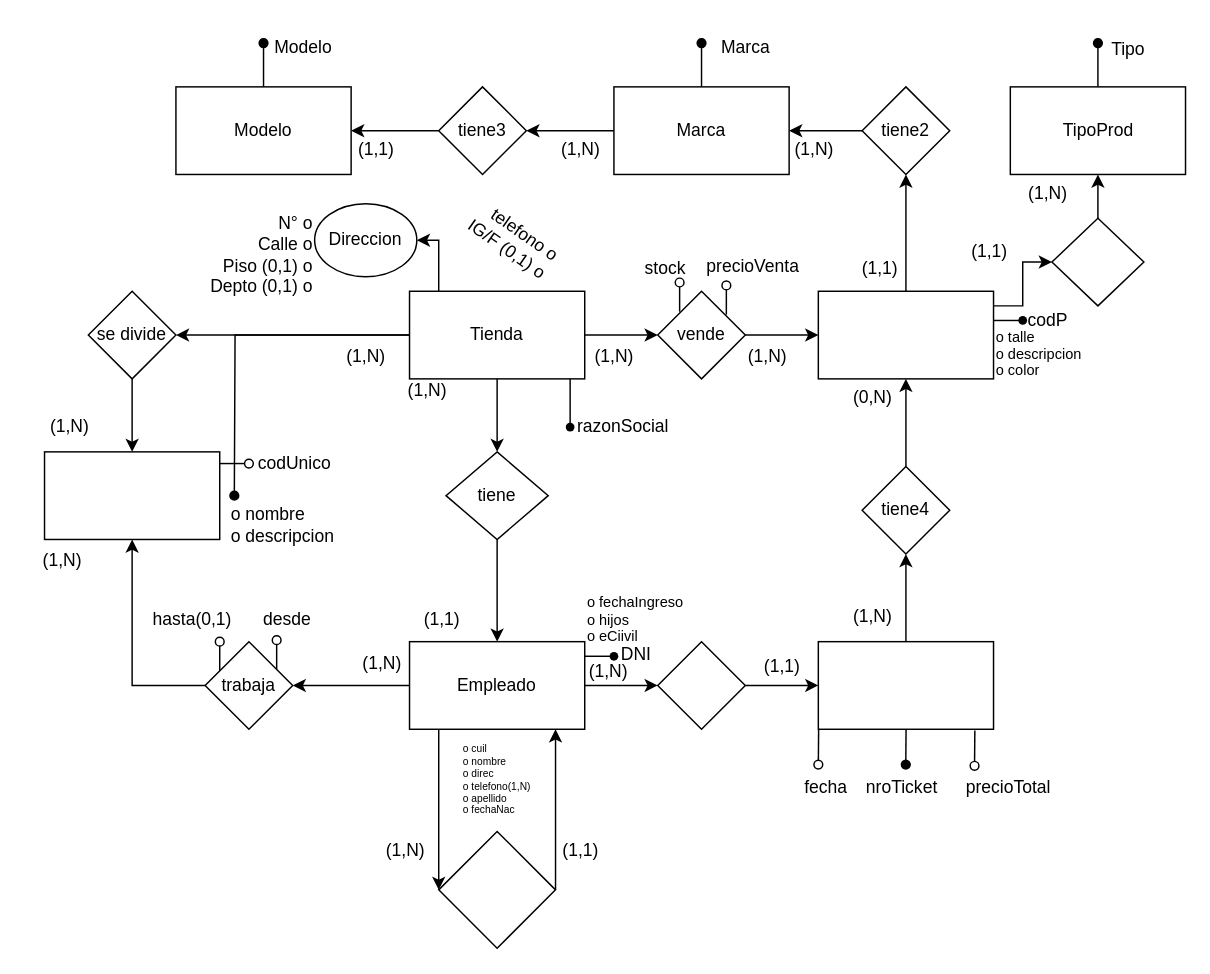
The diagram is 1210 pixels wide and 974 high, and some of its shapes have lost their labels. The shapes that lost their labels are listed below. From the top down, each one's box as (x1, y1, x2, y2) in pixels, then its label:
(1050, 217, 1144, 306): tiene5
(817, 290, 994, 379): Producto
(43, 450, 220, 539): Sector
(656, 640, 745, 729): realiza
(817, 640, 994, 729): Ventas
(437, 830, 556, 948): supervisa
